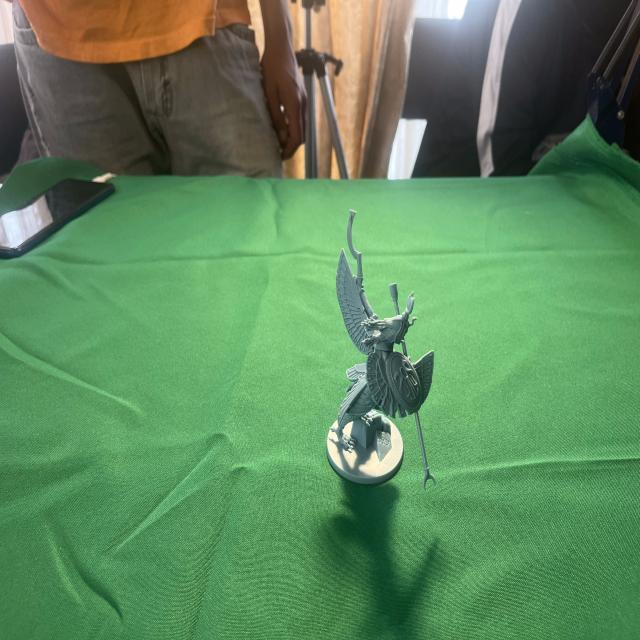isis: (311, 202, 450, 501)
